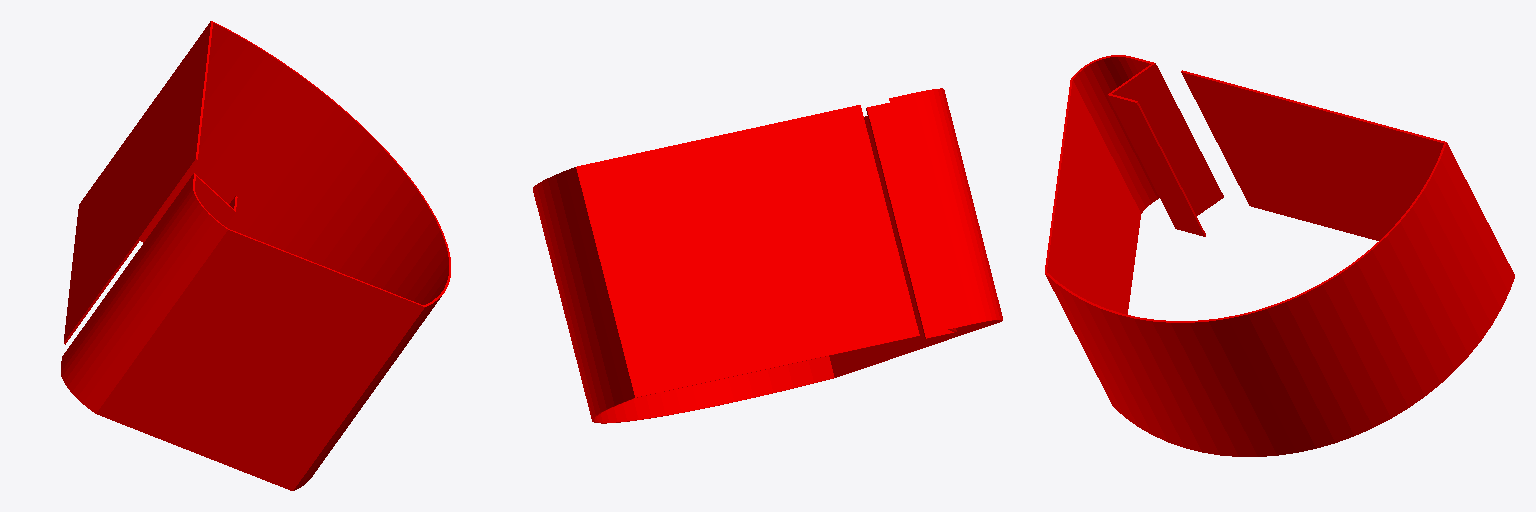
robot.urdf — side_boundaries:
<?xml version="1.0"?>
<!-- created with Phobos 1.0.1 "Capricious Choutengan" -->
  <robot name="side_boundaries">

    <link name="side_wall">
      <inertial>
        <contact>
          <lateral_friction value="1"/>
        </contact>
        <origin xyz="0 0 0" rpy="0 0 0"/>
        <mass value="0.001"/>
        <inertia ixx="0.001" ixy="0" ixz="0" iyy="0.001" iyz="0" izz="0.001"/>
      </inertial>
      <visual name="Cube">
        <origin xyz="0 0 0" rpy="-1 0 1"/>
        <material name="red">
          <color rgba="1.0 0 0 1.0"/>
        </material>
        <geometry>
          <mesh filename="./test/3.STL"/>
        </geometry>
      </visual>
      <collision>
        <origin xyz="0 0 0" rpy="0 0 0.4993467"/>
        <geometry>
          <box size="0.1 1.253 0.5"/>
        </geometry>
      </collision>
    </link>

    <material name="red">
      <color rgba="1 1 1 1"/>
    </material>

  </robot>

--- What the picture shows (computed from the rendered views, not written in the file) ---
The picture shows the robot from 3 angles, left to right: view 1: azimuth 30°, elevation 25°; view 2: azimuth 150°, elevation 25°; view 3: azimuth 270°, elevation 25°; orthographic projection.
Model side_boundaries with 1 links and 0 joints (none), rooted at side_wall, posed all joints at 0.
Visible links, largest first — view 1: side_wall; view 2: side_wall; view 3: side_wall.
Link boxes in pixels (<box>): side_wall: <box>61,21,450,490</box>; side_wall: <box>533,88,1002,423</box>; side_wall: <box>1045,55,1514,456</box>.
Size in the robot's own frame: 1.87 by 2 by 1.5 metres.
Meshes: 1 distinct files referenced, 1 mesh visuals loaded (1 binary STL).